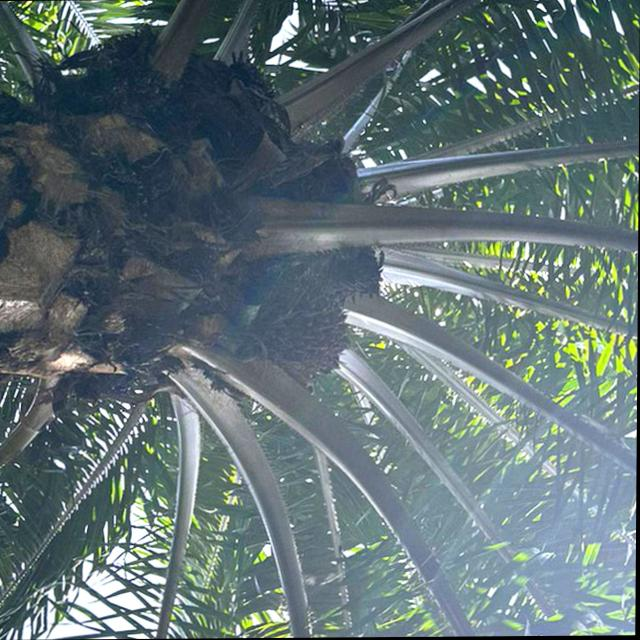ripe: (246, 282, 367, 396)
